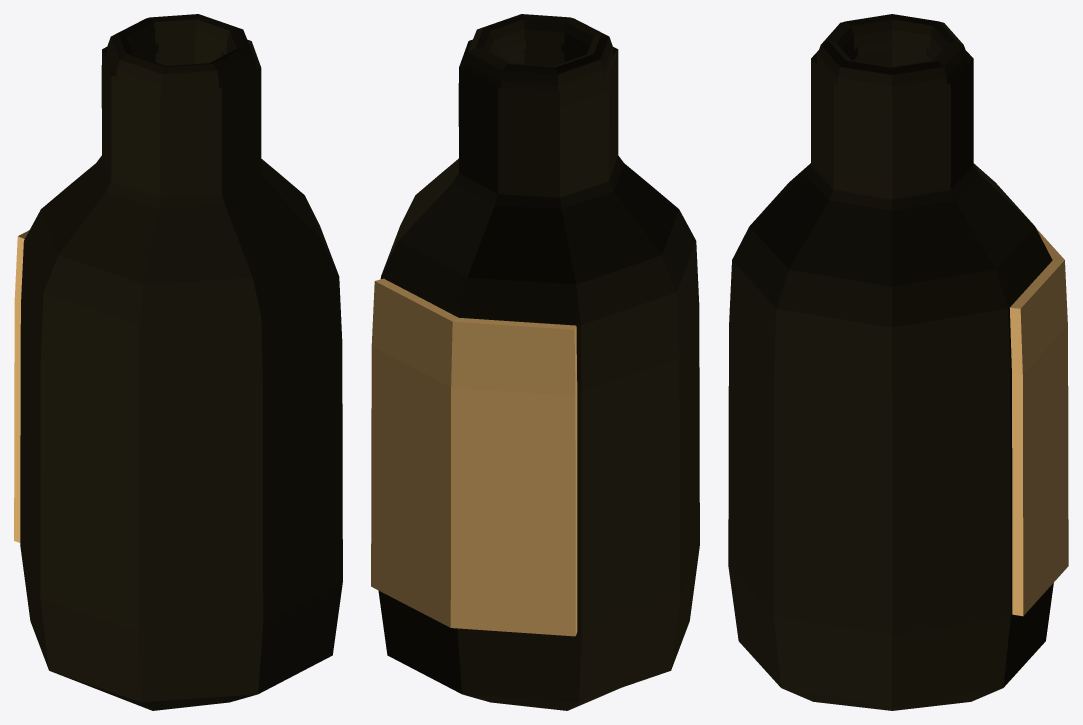
Rendered from Bottle 4.fbx.
The picture shows the model from 3 angles, left to right: view 1: azimuth 30°, elevation 25°; view 2: azimuth 150°, elevation 25°; view 3: azimuth 270°, elevation 25°; orthographic projection.
Parts seen in each view (by area): view 1: Node 0; view 2: Node 0; view 3: Node 0.
Boxes of the visible parts, box(x1,y1,x2,y2) form: Node 0: box(14, 14, 342, 710); Node 0: box(371, 14, 699, 710); Node 0: box(728, 14, 1068, 710).
Bounding box in the file's own units: 0.1677 × 0.3444 × 0.1616.
